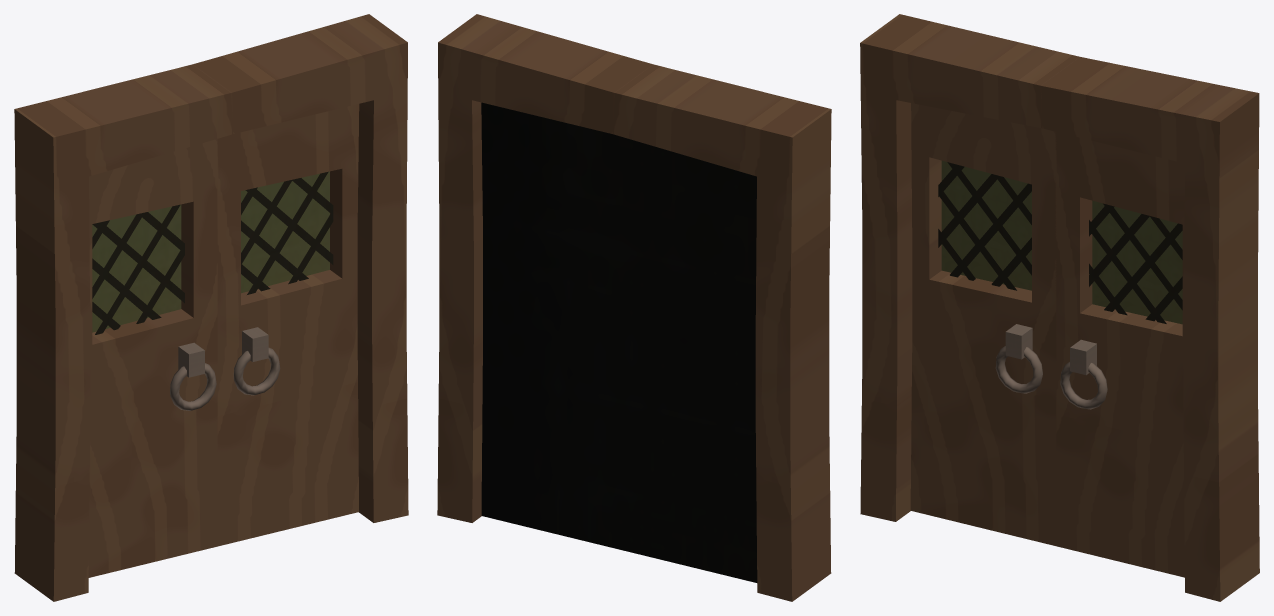
The model's file is MSH_Door.fbx.
3 views of the same model, side by side, from view 1: azimuth 30°, elevation 25°; view 2: azimuth 150°, elevation 25°; view 3: azimuth 330°, elevation 25° (orthographic).
Visible parts, largest first — view 1: MSH_Door; view 2: MSH_Door; view 3: MSH_Door.
Part boxes in pixels (x1,y1,x2,y2): MSH_Door: (14, 14, 408, 601); MSH_Door: (437, 14, 831, 601); MSH_Door: (860, 14, 1259, 601).
Bounding box in the file's own units: 250 × 318 × 47.53.
